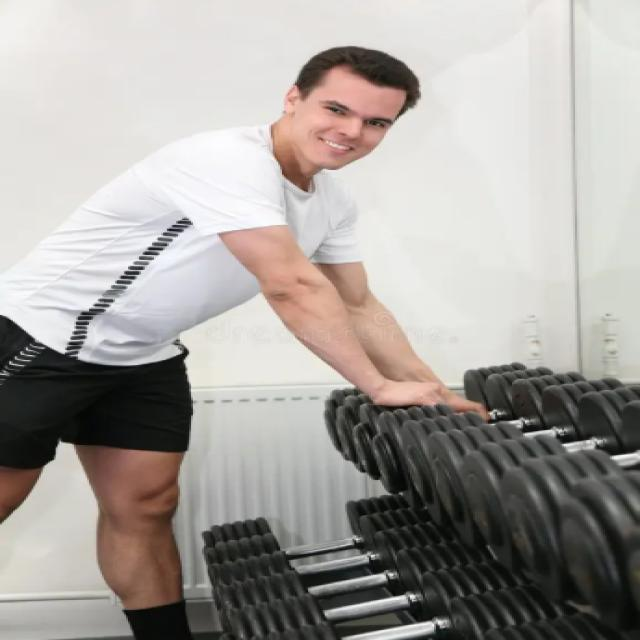face_no_mask: (283, 60, 417, 170)
